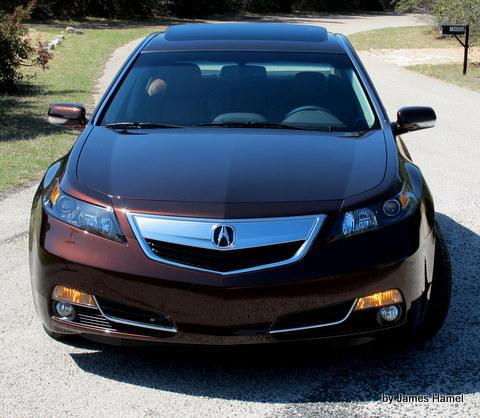Car: (23, 14, 467, 388)
